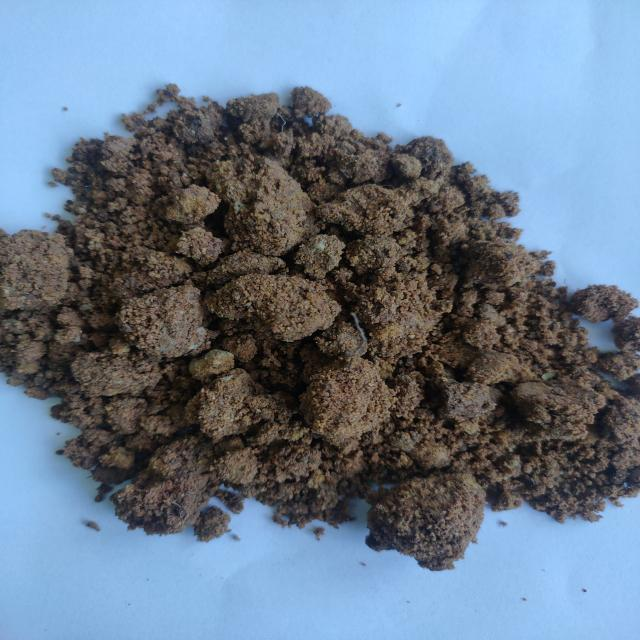soil: (97, 163, 518, 497)
